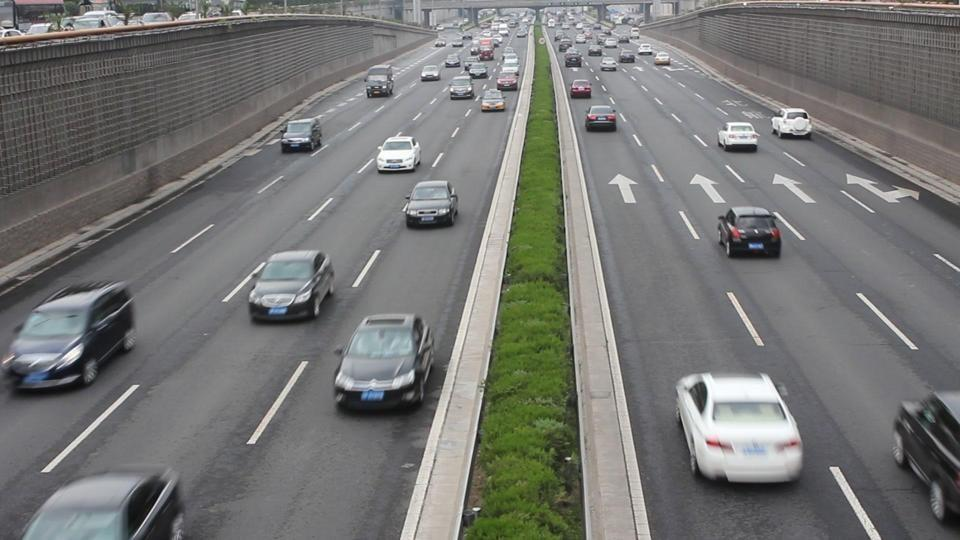car: (1, 279, 138, 392), (675, 371, 804, 485), (19, 466, 186, 539), (333, 313, 435, 412), (891, 389, 960, 525), (248, 249, 336, 323), (716, 206, 782, 259), (402, 180, 460, 228), (376, 136, 422, 173), (280, 118, 323, 154), (771, 108, 813, 139), (717, 122, 760, 152), (365, 64, 396, 98), (584, 105, 618, 132), (448, 75, 475, 99), (478, 90, 506, 112), (496, 69, 519, 91), (569, 79, 593, 98), (466, 63, 488, 80), (420, 64, 442, 81), (600, 56, 618, 72), (653, 51, 671, 66)
